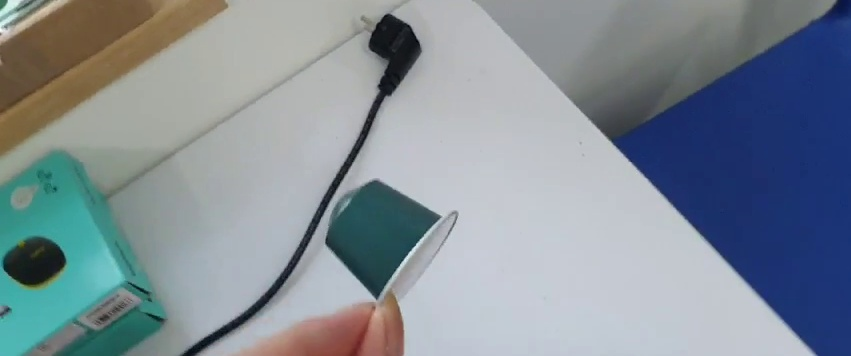capsule_13: (326, 176, 463, 306)
